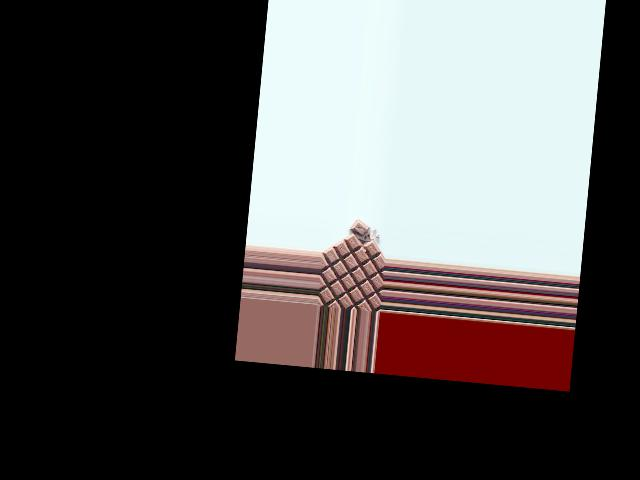chocolate: (319, 225, 386, 312)
